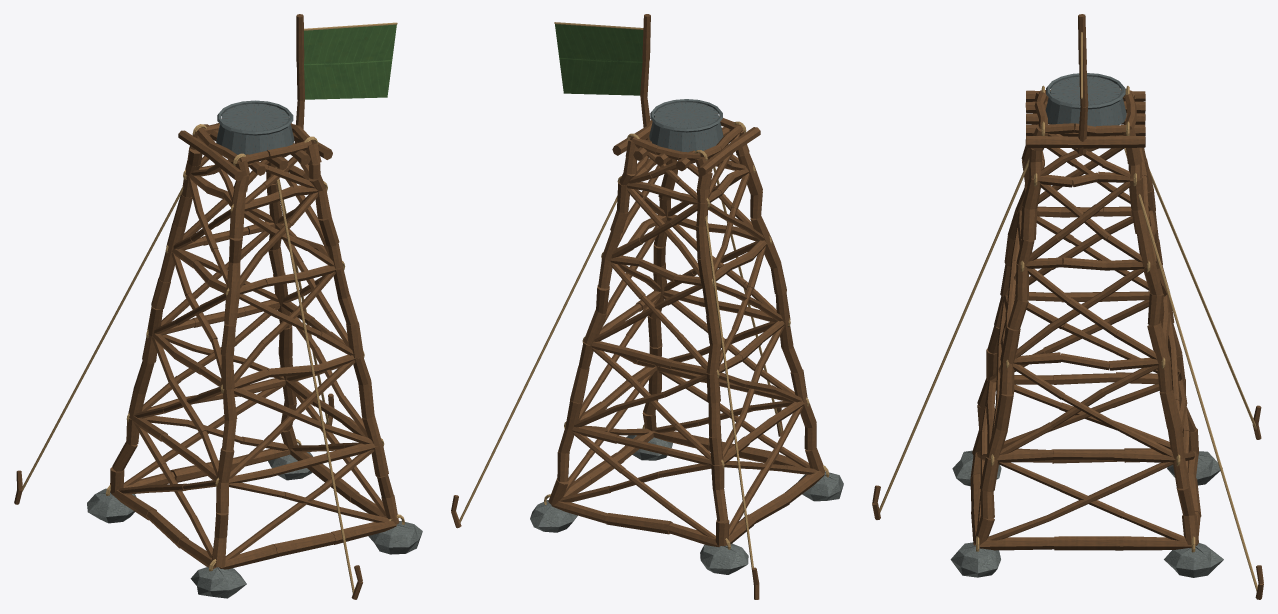
Rendered from cs-013_signal_beacon_complete.obj.
3 renders of one model, left to right at view 1: azimuth 30°, elevation 25°; view 2: azimuth 150°, elevation 25°; view 3: azimuth 270°, elevation 25°, orthographic. The views are drawn at different scales.
Parts seen in each view (by area): view 1: cs-013_signal_beacon_complete; view 2: cs-013_signal_beacon_complete; view 3: cs-013_signal_beacon_complete.
Part boxes in pixels (bbox=[...]): cs-013_signal_beacon_complete: bbox=[14, 14, 422, 599]; cs-013_signal_beacon_complete: bbox=[451, 14, 843, 599]; cs-013_signal_beacon_complete: bbox=[872, 14, 1263, 599].
Bounding box in the file's own units: 2.01 × 3.07 × 2.04.
Materials: 5 (5 with a texture image).
